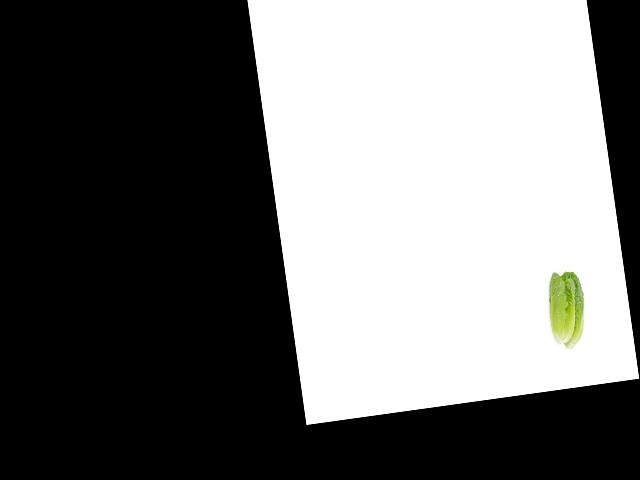lettuce: (539, 268, 590, 351)
